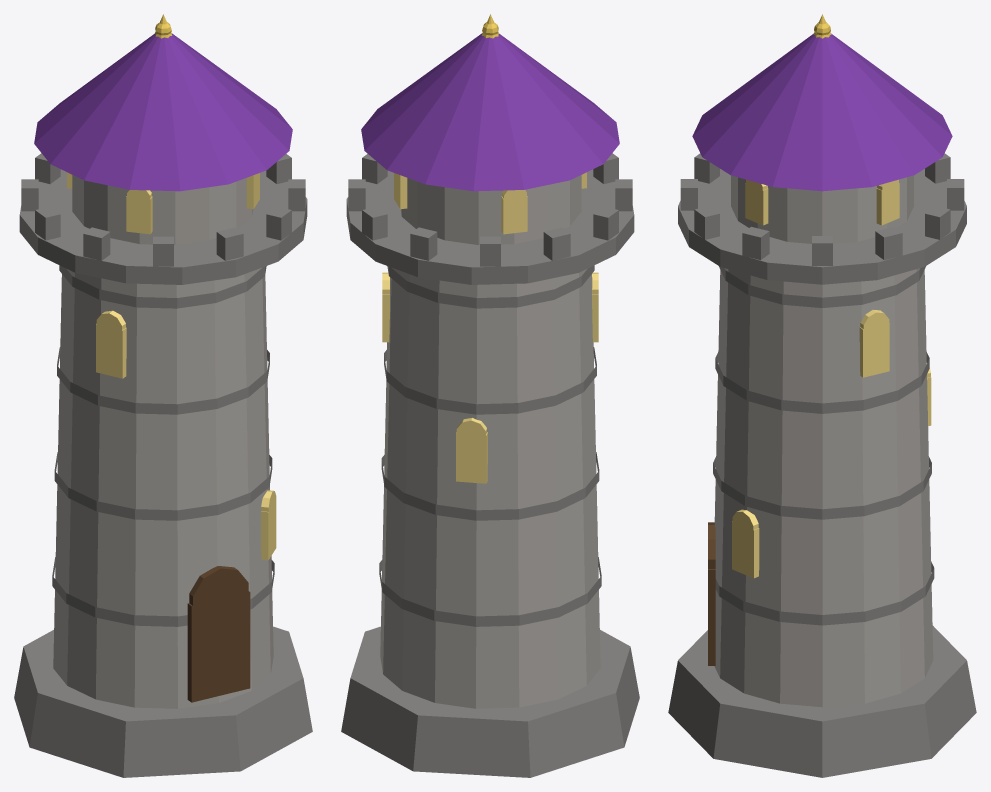
The model's file is mage_tower.glb.
3 views of the same model, side by side, from view 1: azimuth 30°, elevation 25°; view 2: azimuth 150°, elevation 25°; view 3: azimuth 270°, elevation 25° (orthographic).
Visible parts, largest first — view 1: mage_tower-col, mage_tower_detail; view 2: mage_tower-col, mage_tower_detail; view 3: mage_tower-col, mage_tower_detail.
Boxes of the visible parts, bbox=[...] form: mage_tower-col: bbox=[14, 33, 312, 777]; mage_tower_detail: bbox=[21, 14, 305, 702]; mage_tower-col: bbox=[341, 33, 639, 777]; mage_tower_detail: bbox=[348, 14, 632, 626]; mage_tower-col: bbox=[668, 33, 976, 777]; mage_tower_detail: bbox=[680, 14, 964, 665].
Size of the model in its own units: 3.2 by 8 by 3.2.
